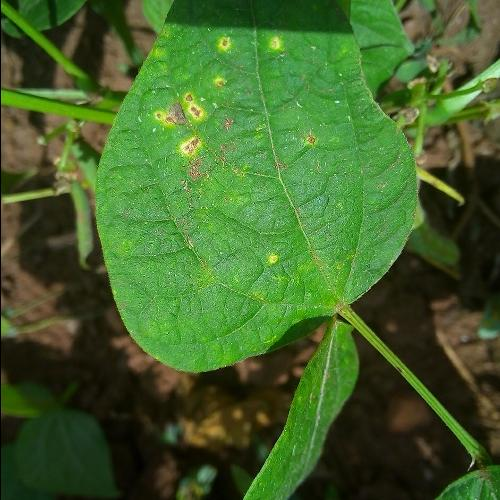hawar: (146, 20, 294, 192), (237, 226, 314, 296)
